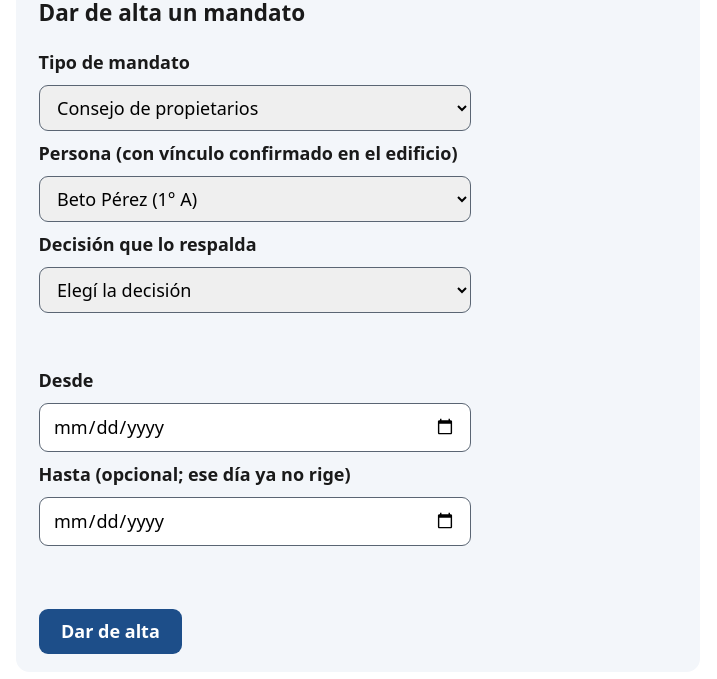
Test case: página /mandatos › la administración externa se da de alta sin cuenta, por razón social y CUIT
(page scrolled)
Select "Asamblea del 10 de enero de 2026: Designa al Consejo" in the dropdown labelled "Decisión que lo respalda". click: point(254, 290)
box: [38, 267, 470, 313]
Type "2026-11-01" into the date field labelled "Desde". click: point(254, 427)
box: [38, 403, 470, 452]
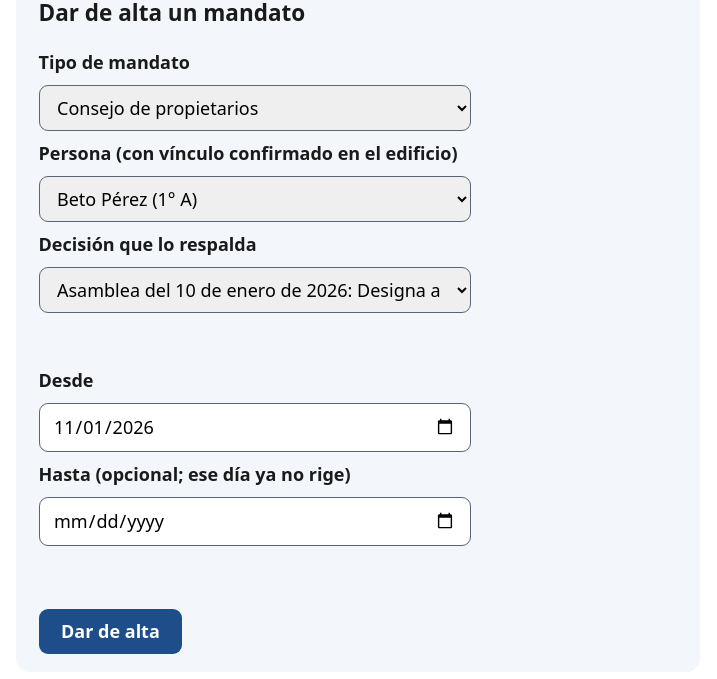
Select "Administración externa" in the dropdown labelled "Tipo de mandato". click: point(254, 108)
box: [38, 85, 470, 131]
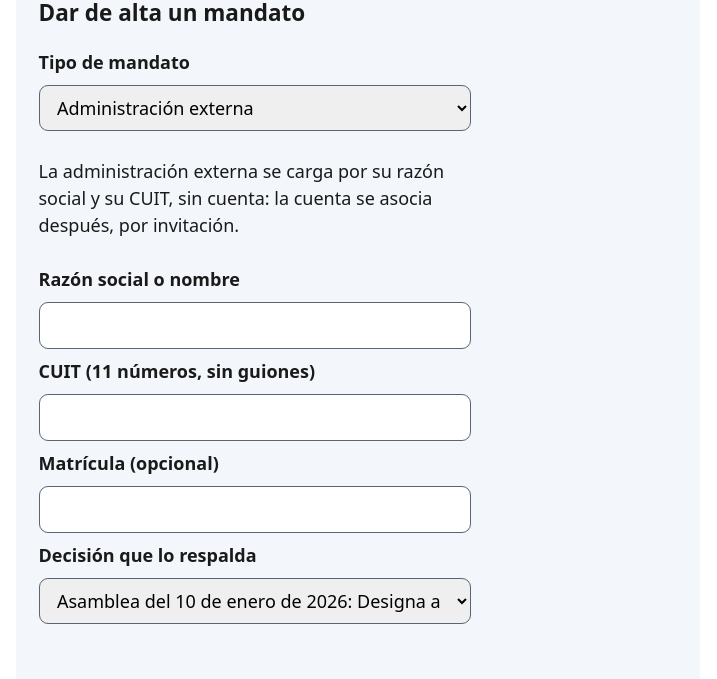
Check: the label labelled "Persona (con vínculo confirmado en el edificio)" is gone
Type "Estudio Norte" into the field labelled "Razón social o nombre". click: point(254, 325)
box: [38, 302, 470, 349]
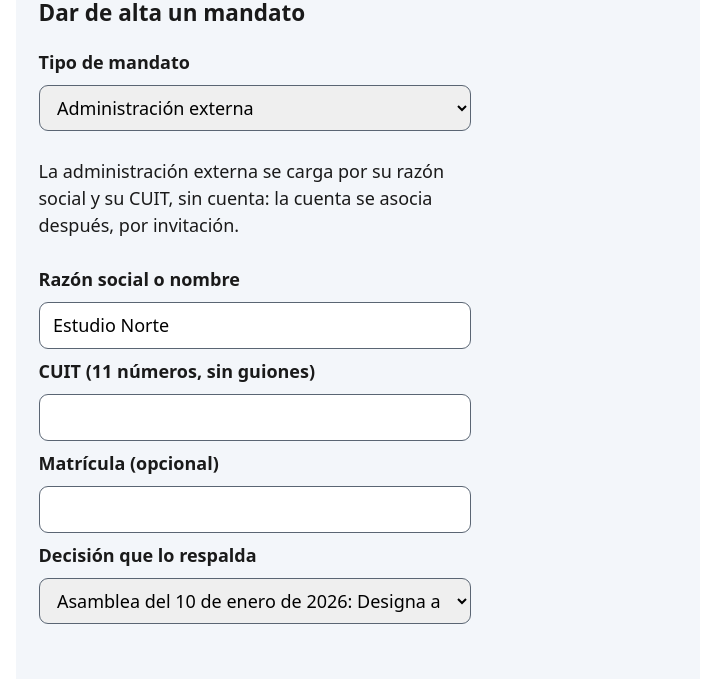
Type "20123456786" into the field labelled "CUIT (11 números, sin guiones)". click: point(254, 417)
box: [38, 394, 470, 441]
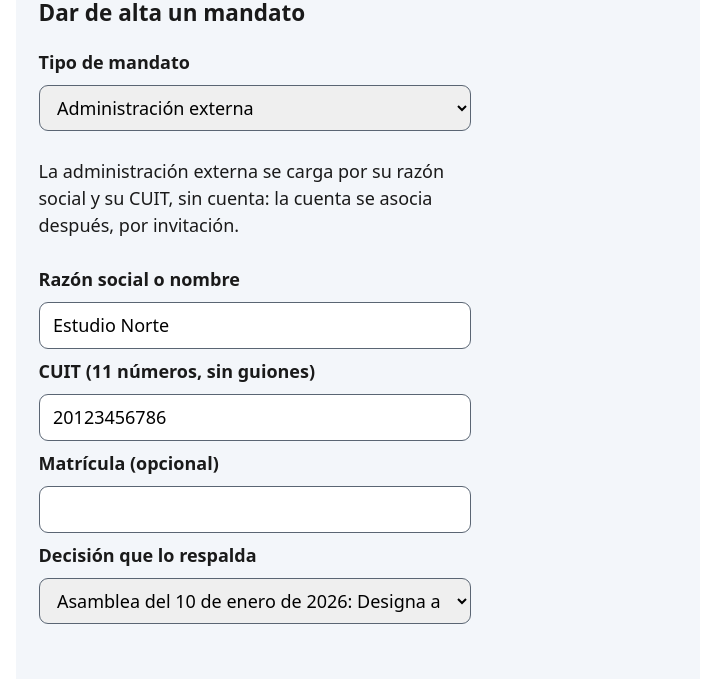
Type "RPA 99" into the field labelled "Matrícula (opcional)". click: point(254, 509)
box: [38, 486, 470, 533]
(page scrolled)
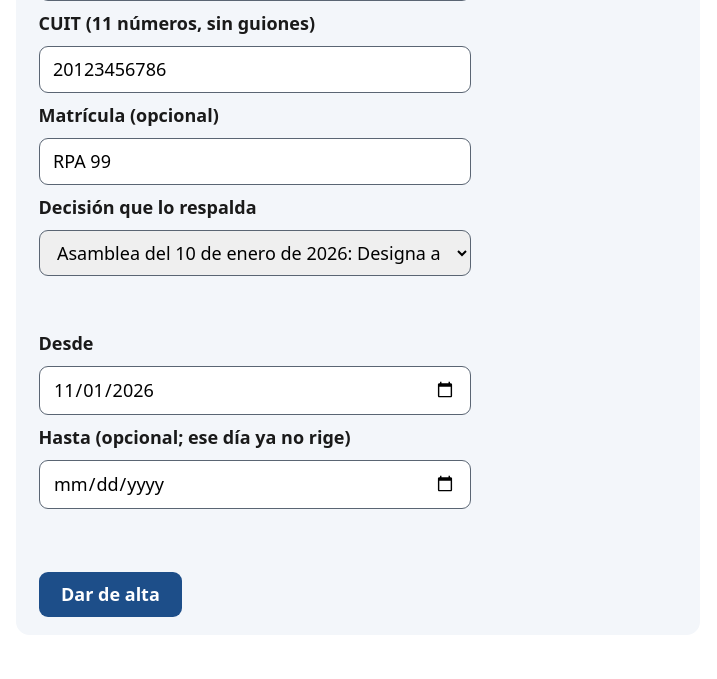
Click the button "Dar de alta". click: point(110, 594)
box: [38, 572, 182, 617]
(page scrolled)
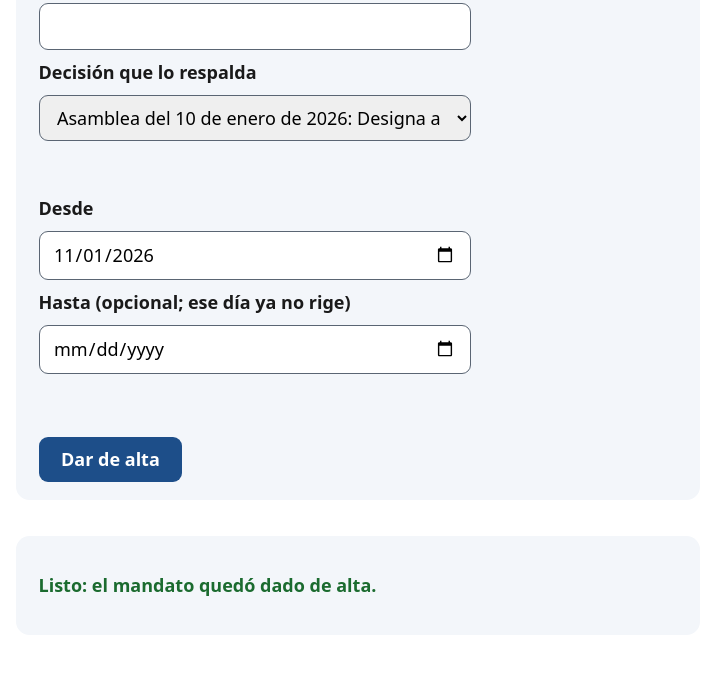
Check: the text "Listo: el mandato quedó dado de alta." is shown, box [38, 573, 376, 597]
